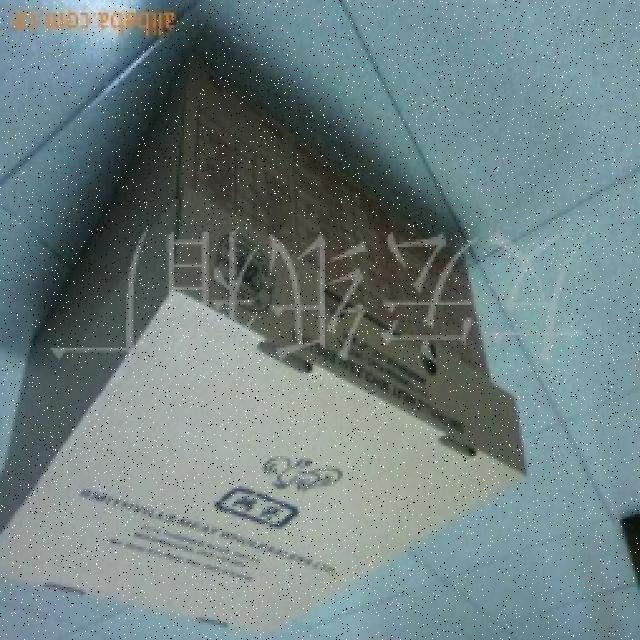box: (0, 30, 524, 638)
